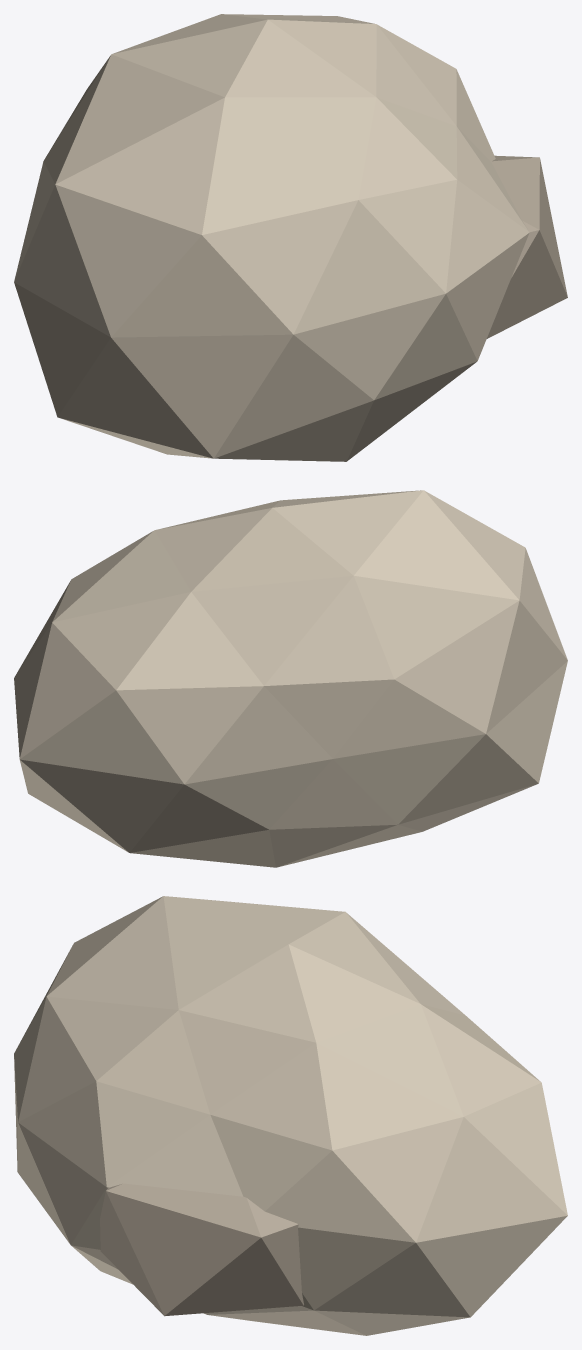
Rendered from campo_rock_granite_6.glb.
3 views of the same model, one above another, from view 1: azimuth 30°, elevation 25°; view 2: azimuth 150°, elevation 25°; view 3: azimuth 270°, elevation 25° (orthographic). The views are drawn at different scales.
Visible parts, largest first — view 1: campo_rock_granite_6.glb; view 2: campo_rock_granite_6.glb; view 3: campo_rock_granite_6.glb.
Part boxes in pixels (x1,y1,x2,y2): campo_rock_granite_6.glb: (14, 14, 567, 461); campo_rock_granite_6.glb: (14, 490, 567, 867); campo_rock_granite_6.glb: (14, 896, 567, 1335).
Size of the model in its own units: 1.68 by 1.25 by 1.67.
